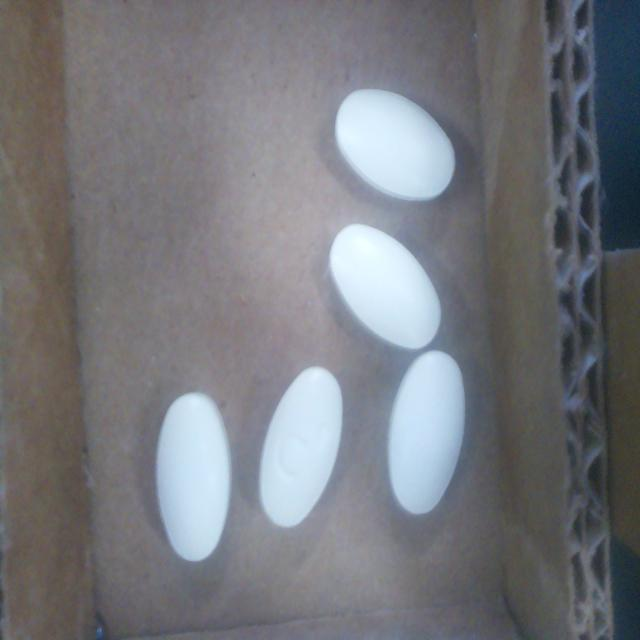pill: (329, 224, 440, 349), (259, 366, 342, 528), (335, 89, 455, 201), (155, 392, 231, 561), (388, 351, 465, 514)
